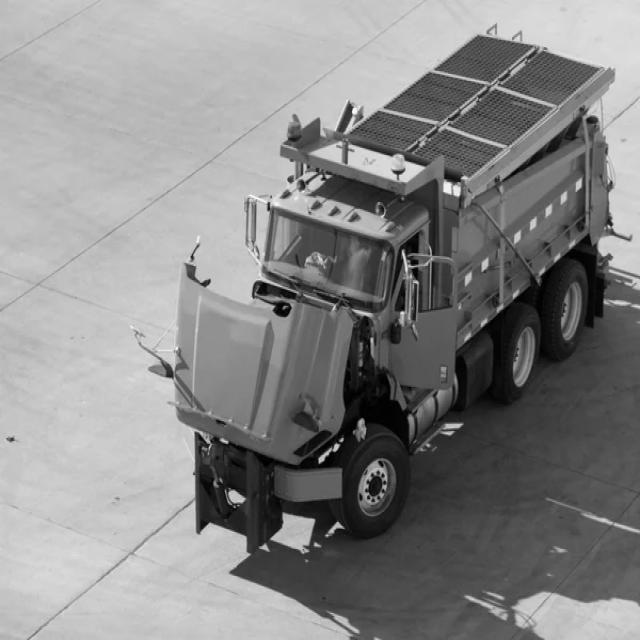Truck: (143, 34, 615, 553)
